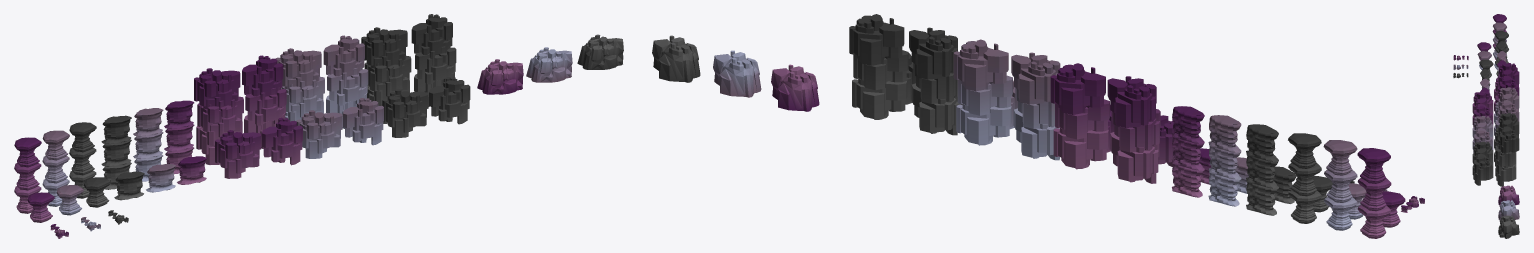
File: EnvironmentRocks.fbx
3 renders of one model, left to right at view 1: azimuth 30°, elevation 25°; view 2: azimuth 150°, elevation 25°; view 3: azimuth 270°, elevation 25°, orthographic. The views are drawn at different scales.
Visible parts, largest first — view 1: Line103, Line104, Line102, Line106, Line107, Line048, Line105, Line051, Line045, Line047, Line057, Line054 (+37 smaller); view 2: Line060, Line057, Line054, Line048, Line051, Line045, Line125, Line126, Line124, Line061, Line055, Line058 (+31 smaller); view 3: Line107, Line060, Line126, Line061, Line059, Line051, Line045, Line048, Line102, Line103, Line104, Line125 (+21 smaller).
Part boxes in pixels (x1=…): Line103: x1=215, y1=130, x2=261, y2=178; Line104: x1=382, y1=89, x2=428, y2=137; Line102: x1=296, y1=110, x2=342, y2=158; Line106: x1=261, y1=117, x2=302, y2=165; Line107: x1=429, y1=77, x2=470, y2=124; Line048: x1=194, y1=68, x2=240, y2=109; Line105: x1=343, y1=98, x2=383, y2=145; Line051: x1=361, y1=27, x2=407, y2=68; Line045: x1=275, y1=48, x2=321, y2=89; Line047: x1=197, y1=96, x2=243, y2=139; Line057: x1=242, y1=55, x2=283, y2=96; Line054: x1=323, y1=35, x2=364, y2=76; Line060: x1=849, y1=14, x2=904, y2=65; Line057: x1=1050, y1=63, x2=1105, y2=114; Line054: x1=953, y1=39, x2=1008, y2=91; Line048: x1=1107, y1=76, x2=1156, y2=127; Line051: x1=909, y1=27, x2=957, y2=79; Line045: x1=1011, y1=52, x2=1060, y2=104; Line125: x1=713, y1=50, x2=761, y2=97; Line126: x1=652, y1=35, x2=700, y2=82; Line124: x1=771, y1=64, x2=819, y2=111; Line061: x1=852, y1=78, x2=907, y2=119; Line055: x1=956, y1=103, x2=1011, y2=145; Line058: x1=1053, y1=127, x2=1108, y2=169; Line107: x1=1472, y1=153, x2=1493, y2=185; Line060: x1=1498, y1=126, x2=1519, y2=153; Line126: x1=1498, y1=215, x2=1519, y2=238; Line061: x1=1495, y1=164, x2=1516, y2=186; Line059: x1=1494, y1=142, x2=1514, y2=170; Line051: x1=1498, y1=113, x2=1519, y2=135; Line045: x1=1498, y1=87, x2=1519, y2=109; Line048: x1=1498, y1=63, x2=1519, y2=85; Line102: x1=1472, y1=116, x2=1493, y2=137; Line103: x1=1472, y1=91, x2=1493, y2=113; Line104: x1=1472, y1=141, x2=1493, y2=163; Line125: x1=1498, y1=200, x2=1519, y2=221.
Bounding box in the file's own units: 16417 × 2185 × 2496.
1 material, 1 textured.
